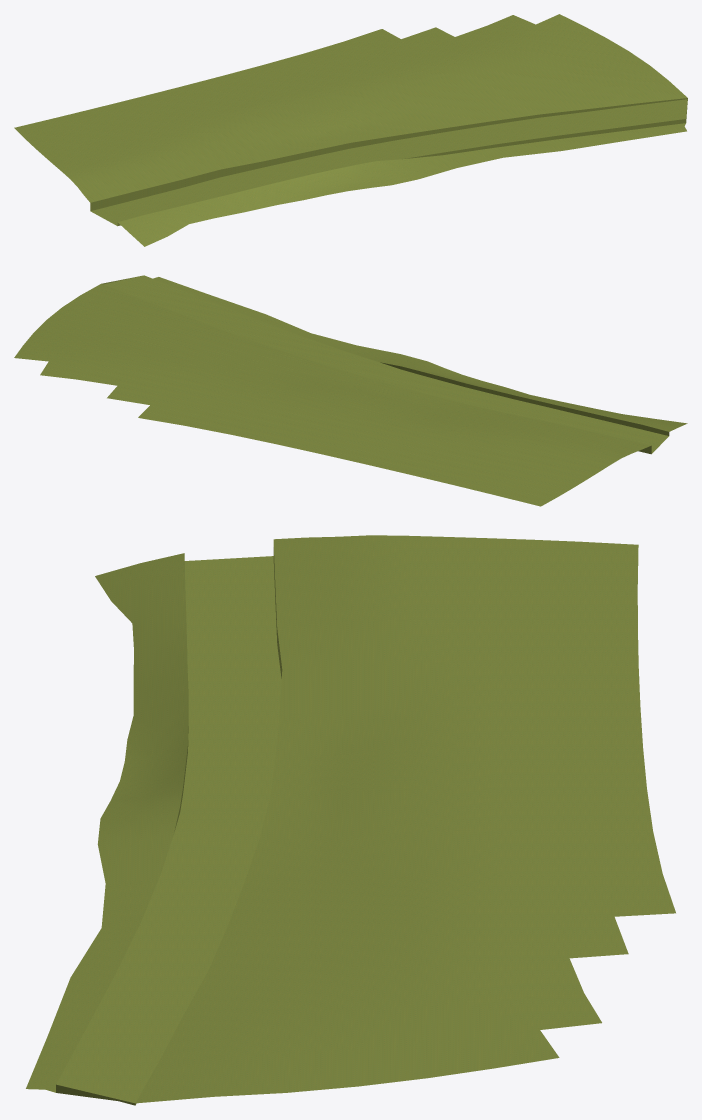
File: small_ground.fbx
The picture shows the model from 3 angles, top to bottom: view 1: azimuth 30°, elevation 25°; view 2: azimuth 150°, elevation 25°; view 3: azimuth 270°, elevation 25°; orthographic projection. The views are drawn at different scales.
Visible parts, largest first — view 1: ground; view 2: ground; view 3: ground.
Part boxes in pixels (left/top/right/bottom): ground: left=14, top=14, right=687, bottom=246; ground: left=14, top=275, right=687, bottom=506; ground: left=26, top=535, right=675, bottom=1105.
Bounding box in the file's own units: 32204 × 1000 × 16106.
Materials: 1 (1 with a texture image).
